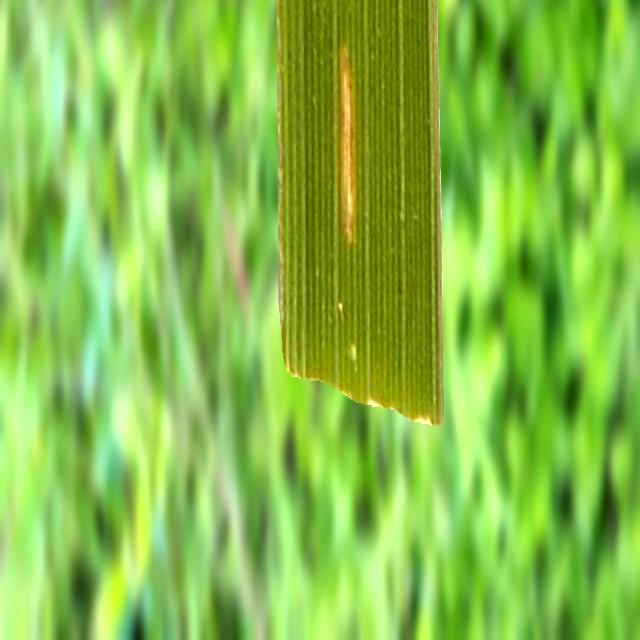BLS: (339, 45, 356, 246)
